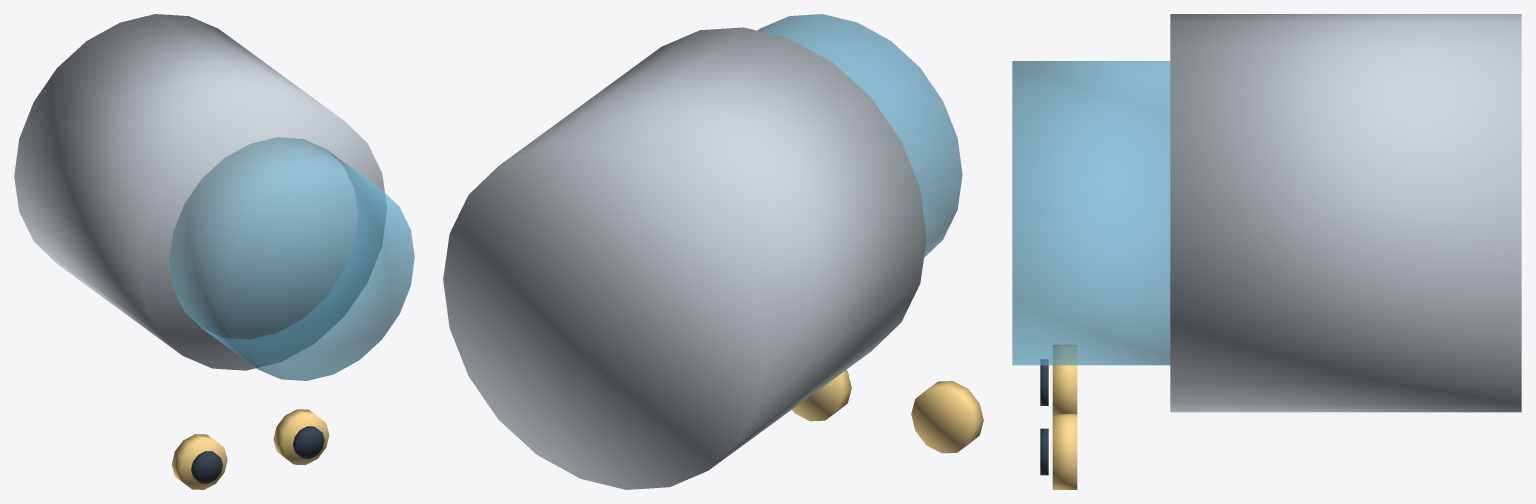
The model's file is 85_L90_StarTrackerTrajectoryMonitor.fbx.
3 views of the same model, side by side, from view 1: azimuth 30°, elevation 25°; view 2: azimuth 150°, elevation 25°; view 3: azimuth 270°, elevation 25° (orthographic). The views are drawn at different scales.
Visible parts, largest first — view 1: L90_StarTrackerTrajectoryMoni_Part_0000, L90_StarTrackerTrajectoryMoni_Part_0001, L90_StarTrackerTrajectoryMoni_Part_0004, L90_StarTrackerTrajectoryMoni_Part_0002, L90_StarTrackerTrajectoryMoni_Part_0003, L90_StarTrackerTrajectoryMoni_Part_0005; view 2: L90_StarTrackerTrajectoryMoni_Part_0000, L90_StarTrackerTrajectoryMoni_Part_0001, L90_StarTrackerTrajectoryMoni_Part_0002, L90_StarTrackerTrajectoryMoni_Part_0004; view 3: L90_StarTrackerTrajectoryMoni_Part_0000, L90_StarTrackerTrajectoryMoni_Part_0001, L90_StarTrackerTrajectoryMoni_Part_0004, L90_StarTrackerTrajectoryMoni_Part_0002.
Boxes of the visible parts, x1,y1,x2,y2 form: L90_StarTrackerTrajectoryMoni_Part_0000: (14,14,386,370); L90_StarTrackerTrajectoryMoni_Part_0001: (169,137,414,380); L90_StarTrackerTrajectoryMoni_Part_0004: (273,409,329,464); L90_StarTrackerTrajectoryMoni_Part_0002: (171,434,227,489); L90_StarTrackerTrajectoryMoni_Part_0003: (191,451,222,483); L90_StarTrackerTrajectoryMoni_Part_0005: (293,426,324,458); L90_StarTrackerTrajectoryMoni_Part_0000: (443,27,926,489); L90_StarTrackerTrajectoryMoni_Part_0001: (757,14,962,257); L90_StarTrackerTrajectoryMoni_Part_0002: (911,381,983,453); L90_StarTrackerTrajectoryMoni_Part_0004: (792,370,851,421); L90_StarTrackerTrajectoryMoni_Part_0000: (1170,14,1521,412); L90_StarTrackerTrajectoryMoni_Part_0001: (1012,61,1170,365); L90_StarTrackerTrajectoryMoni_Part_0004: (1052,414,1077,489); L90_StarTrackerTrajectoryMoni_Part_0002: (1052,345,1077,413).
Bounding box in the file's own units: 0.685 × 0.8515 × 0.87.
